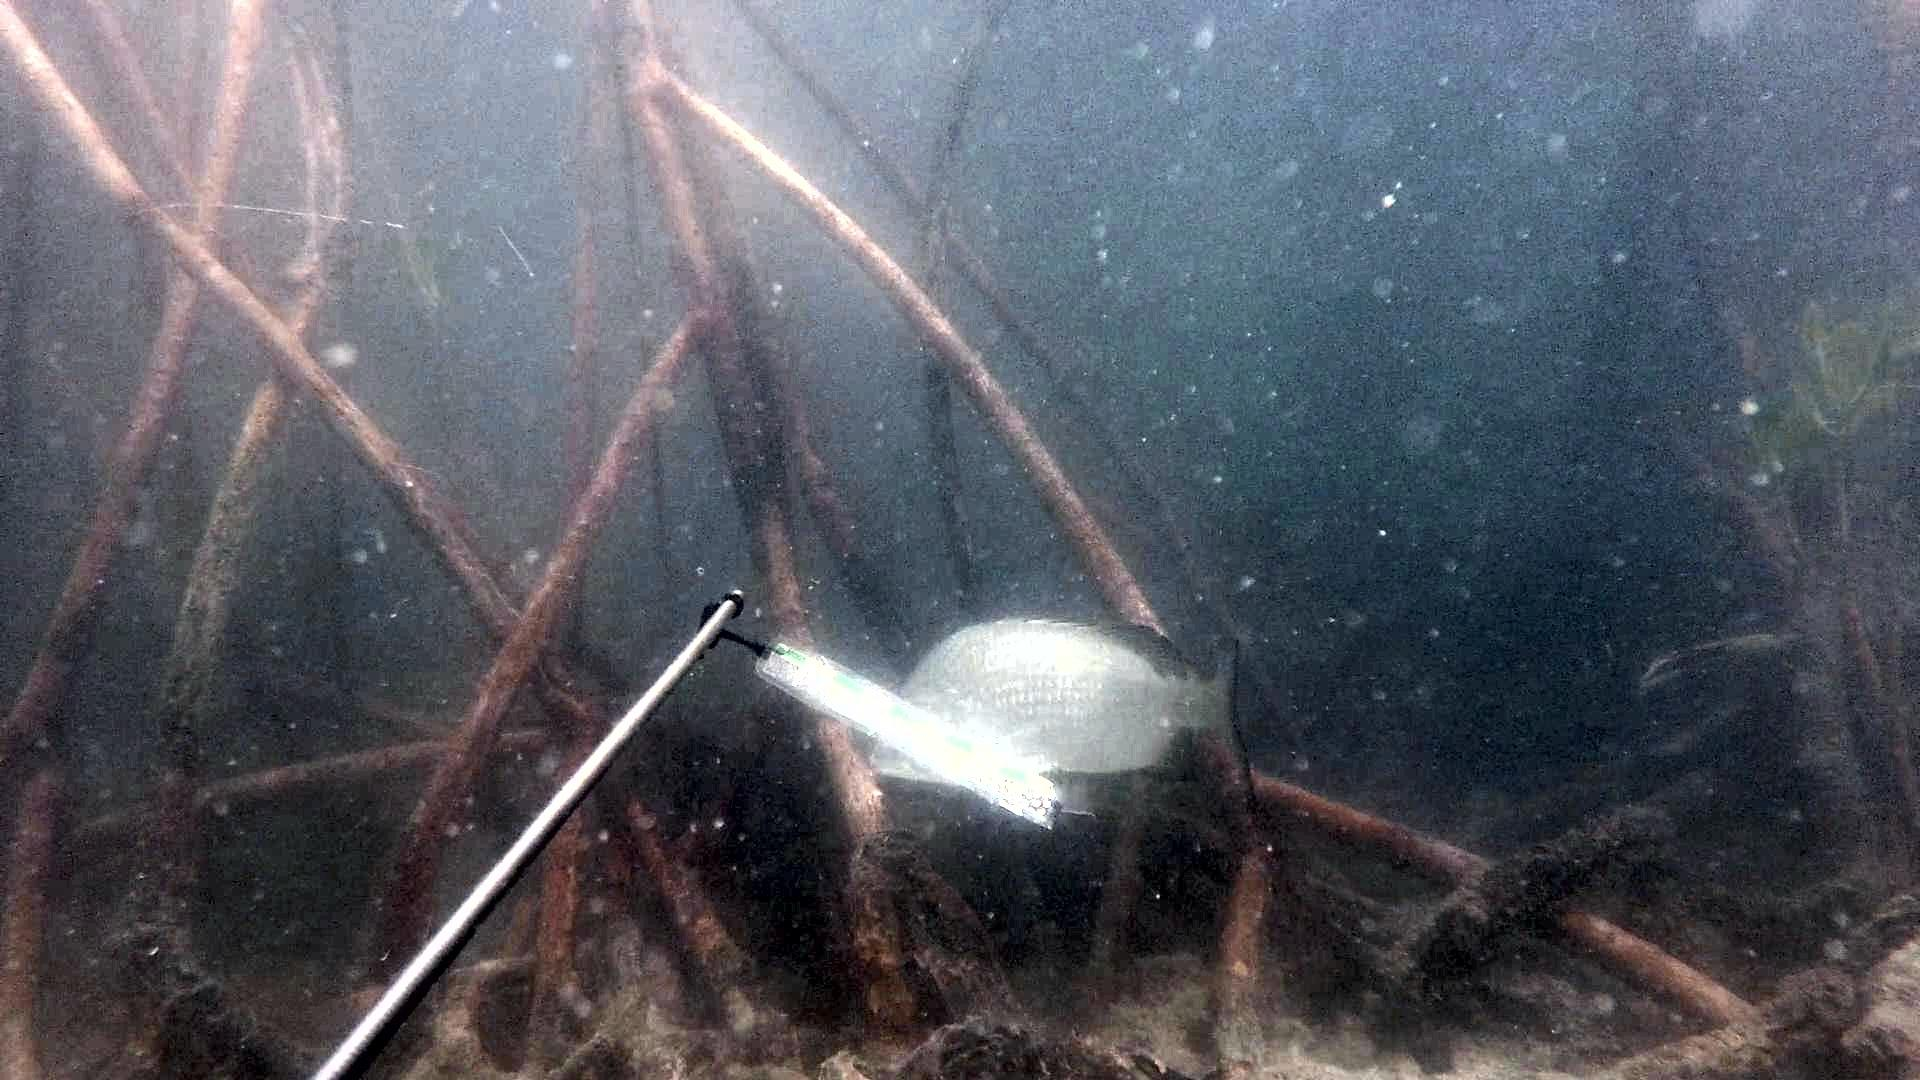acanthopagrus palmaris: (870, 611, 1266, 828)
